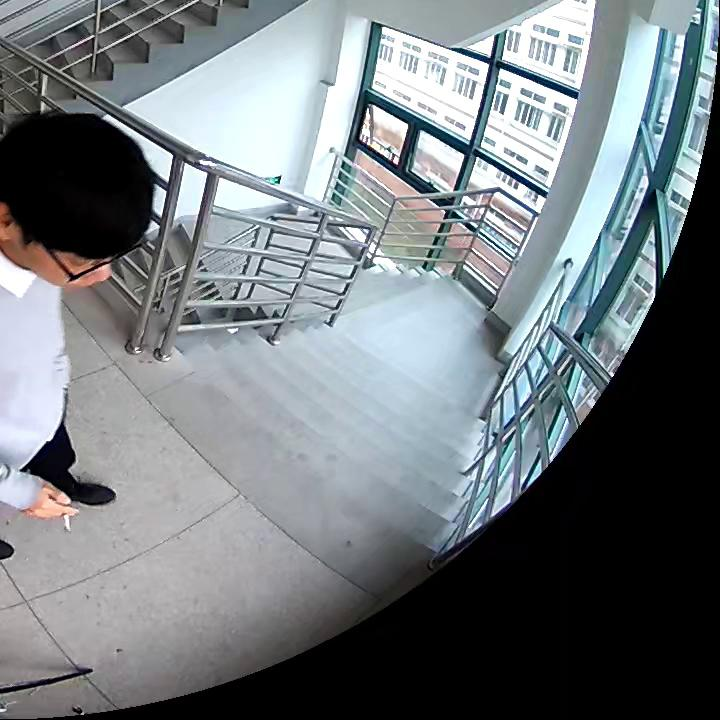handsmoke: (27, 485, 77, 532)
mouthwithoutsmoke: (4, 116, 151, 287)
